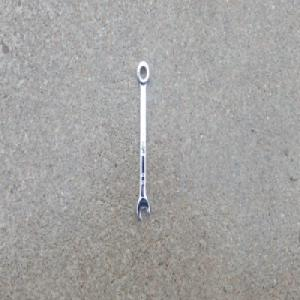Wrench: (136, 59, 150, 222)
